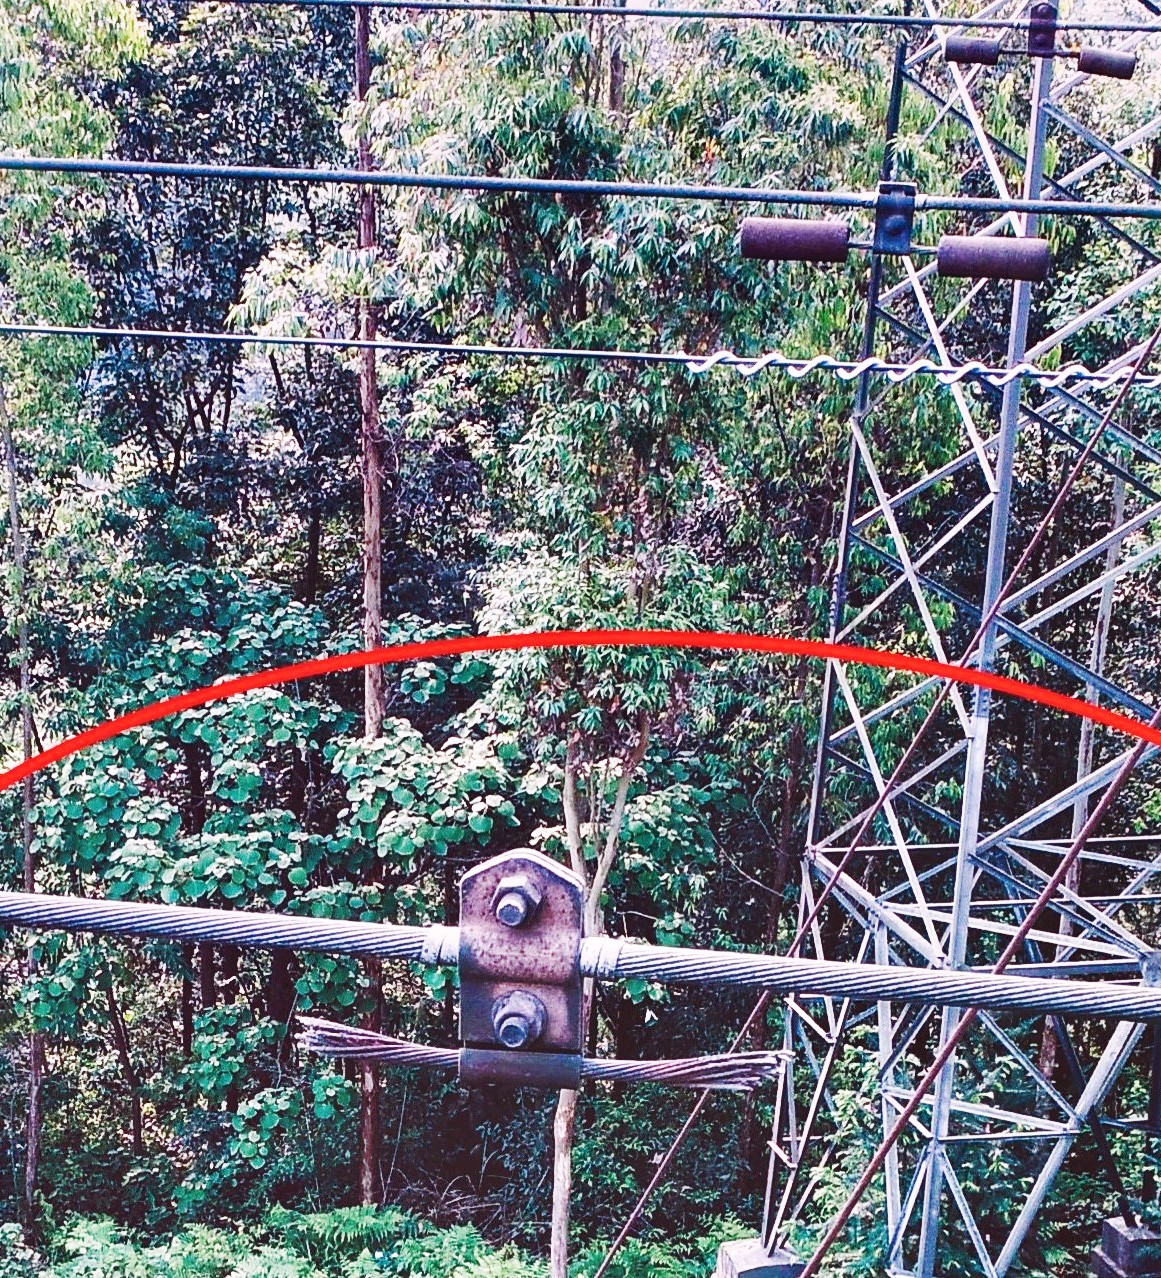Damage of shockproof hammer: (279, 832, 809, 1120)
